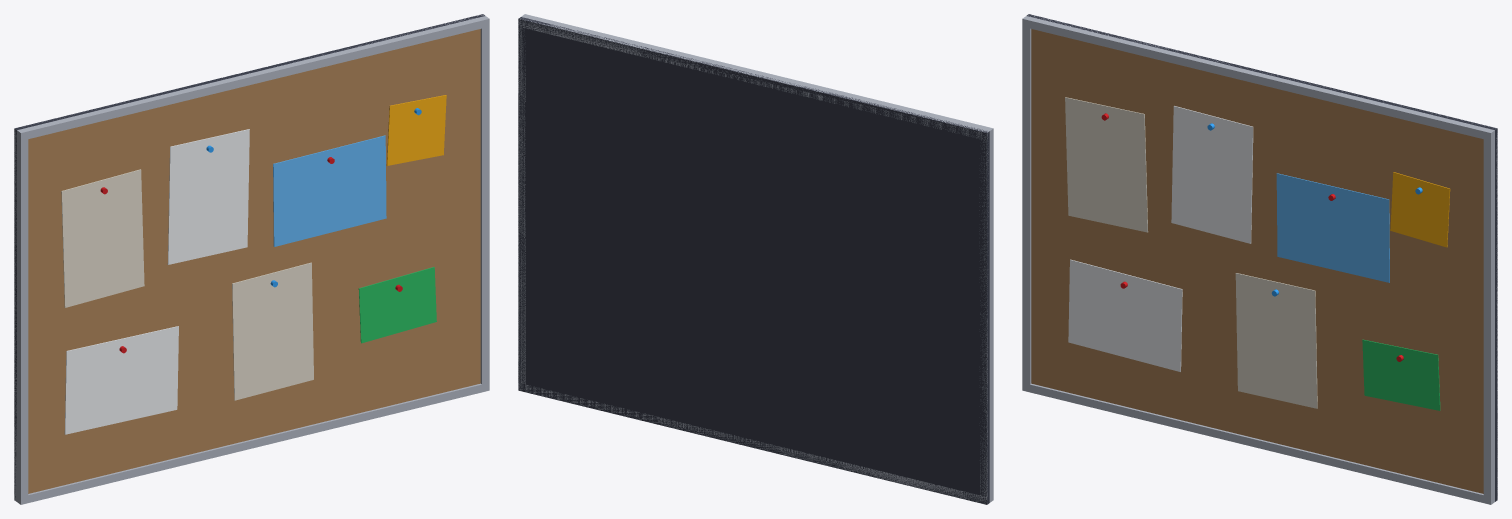
File: sch-037.glb
The picture shows the model from 3 angles, left to right: view 1: azimuth 30°, elevation 25°; view 2: azimuth 150°, elevation 25°; view 3: azimuth 330°, elevation 25°; orthographic projection.
Visible parts, largest first — view 1: cork, steel, paper, white, chart_transition, chart_nonmetal, chart_alkaline, dark_steel; view 2: dark_steel, steel; view 3: cork, white, paper, steel, chart_transition, chart_nonmetal, chart_alkaline, dark_steel.
Part boxes in pixels (x1,y1,x2,y2): cork: (28, 29, 480, 493); steel: (14, 14, 489, 504); paper: (61, 169, 313, 400); white: (64, 129, 249, 434); chart_transition: (273, 135, 386, 246); chart_nonmetal: (358, 267, 436, 343); chart_alkaline: (386, 95, 446, 165); dark_steel: (14, 14, 484, 500); dark_steel: (518, 17, 989, 504); steel: (518, 14, 993, 504); cork: (1031, 29, 1483, 493); white: (1068, 106, 1253, 371); paper: (1065, 97, 1317, 408); steel: (1022, 15, 1497, 504); chart_transition: (1276, 173, 1389, 282); chart_nonmetal: (1362, 339, 1440, 410); chart_alkaline: (1390, 172, 1450, 247); dark_steel: (1026, 14, 1497, 501).
Bounding box in the file's own units: 1.24 × 0.94 × 0.036.
